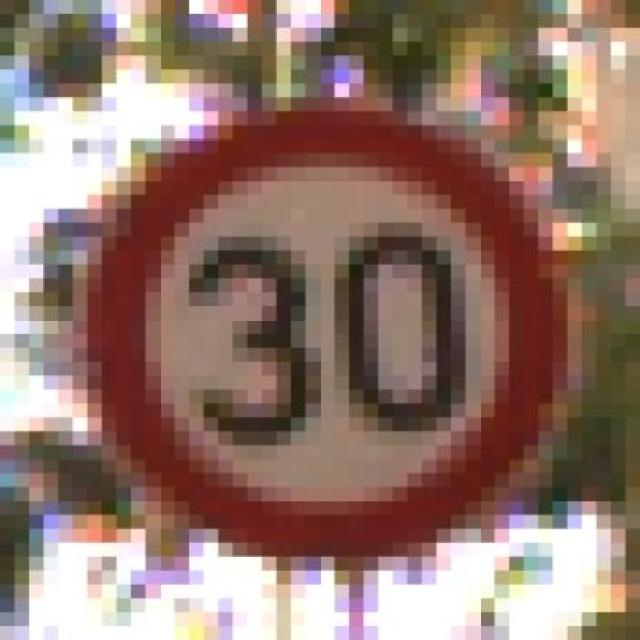forb_speed_over_30: (92, 105, 566, 562)
